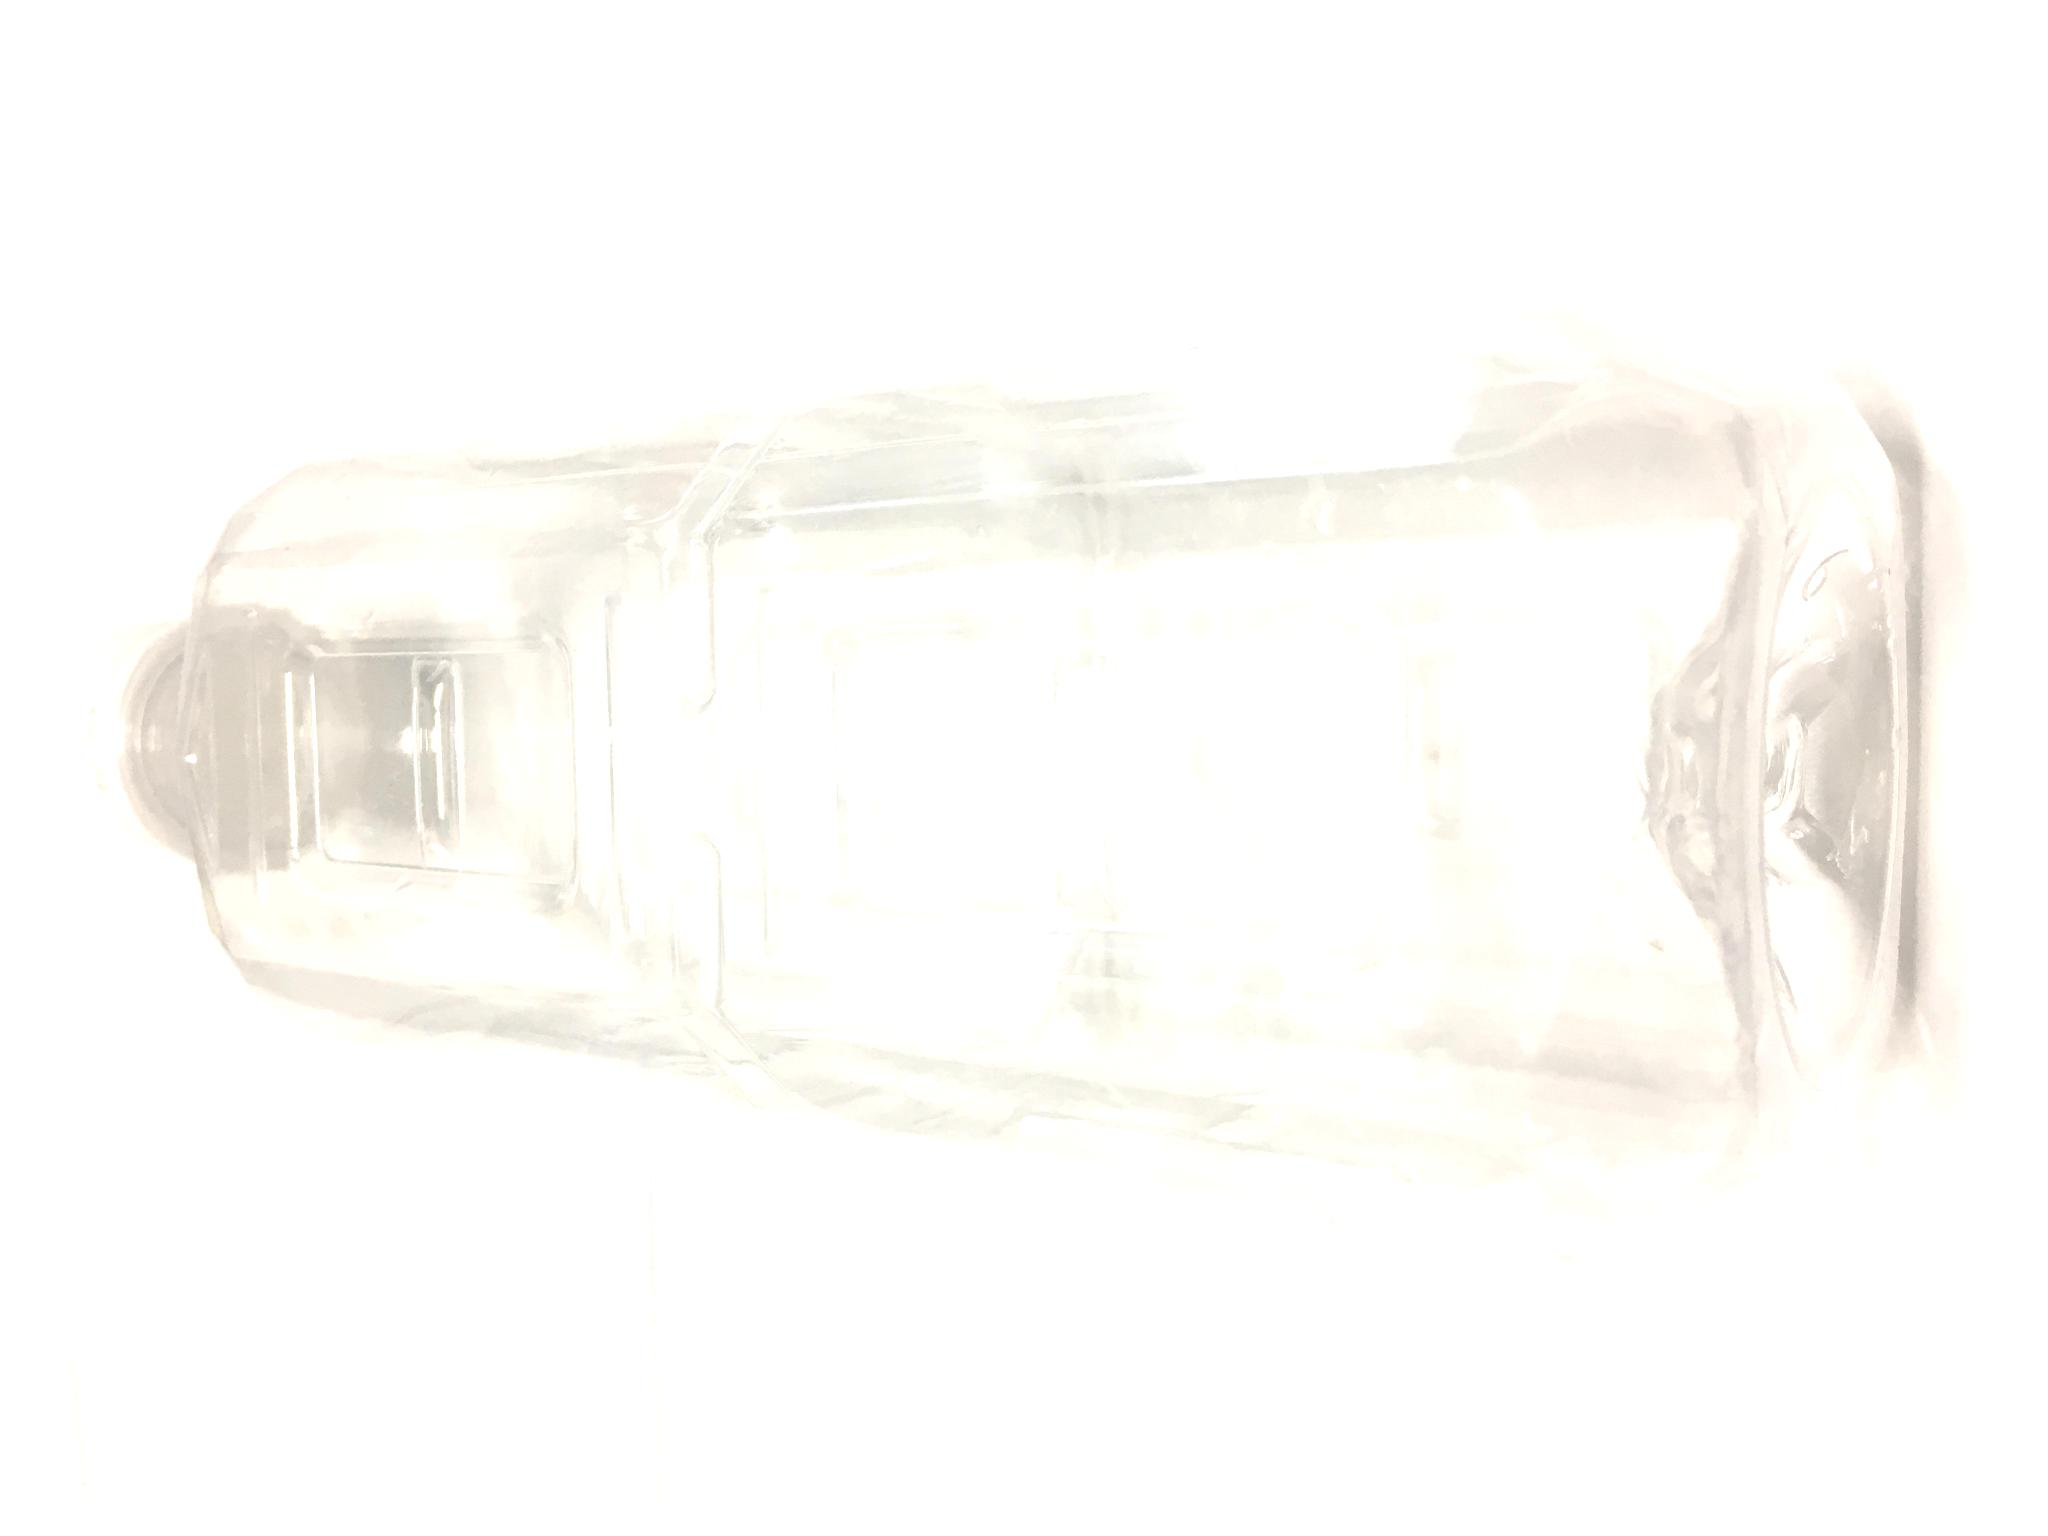bottle: (50, 282, 1963, 1246)
